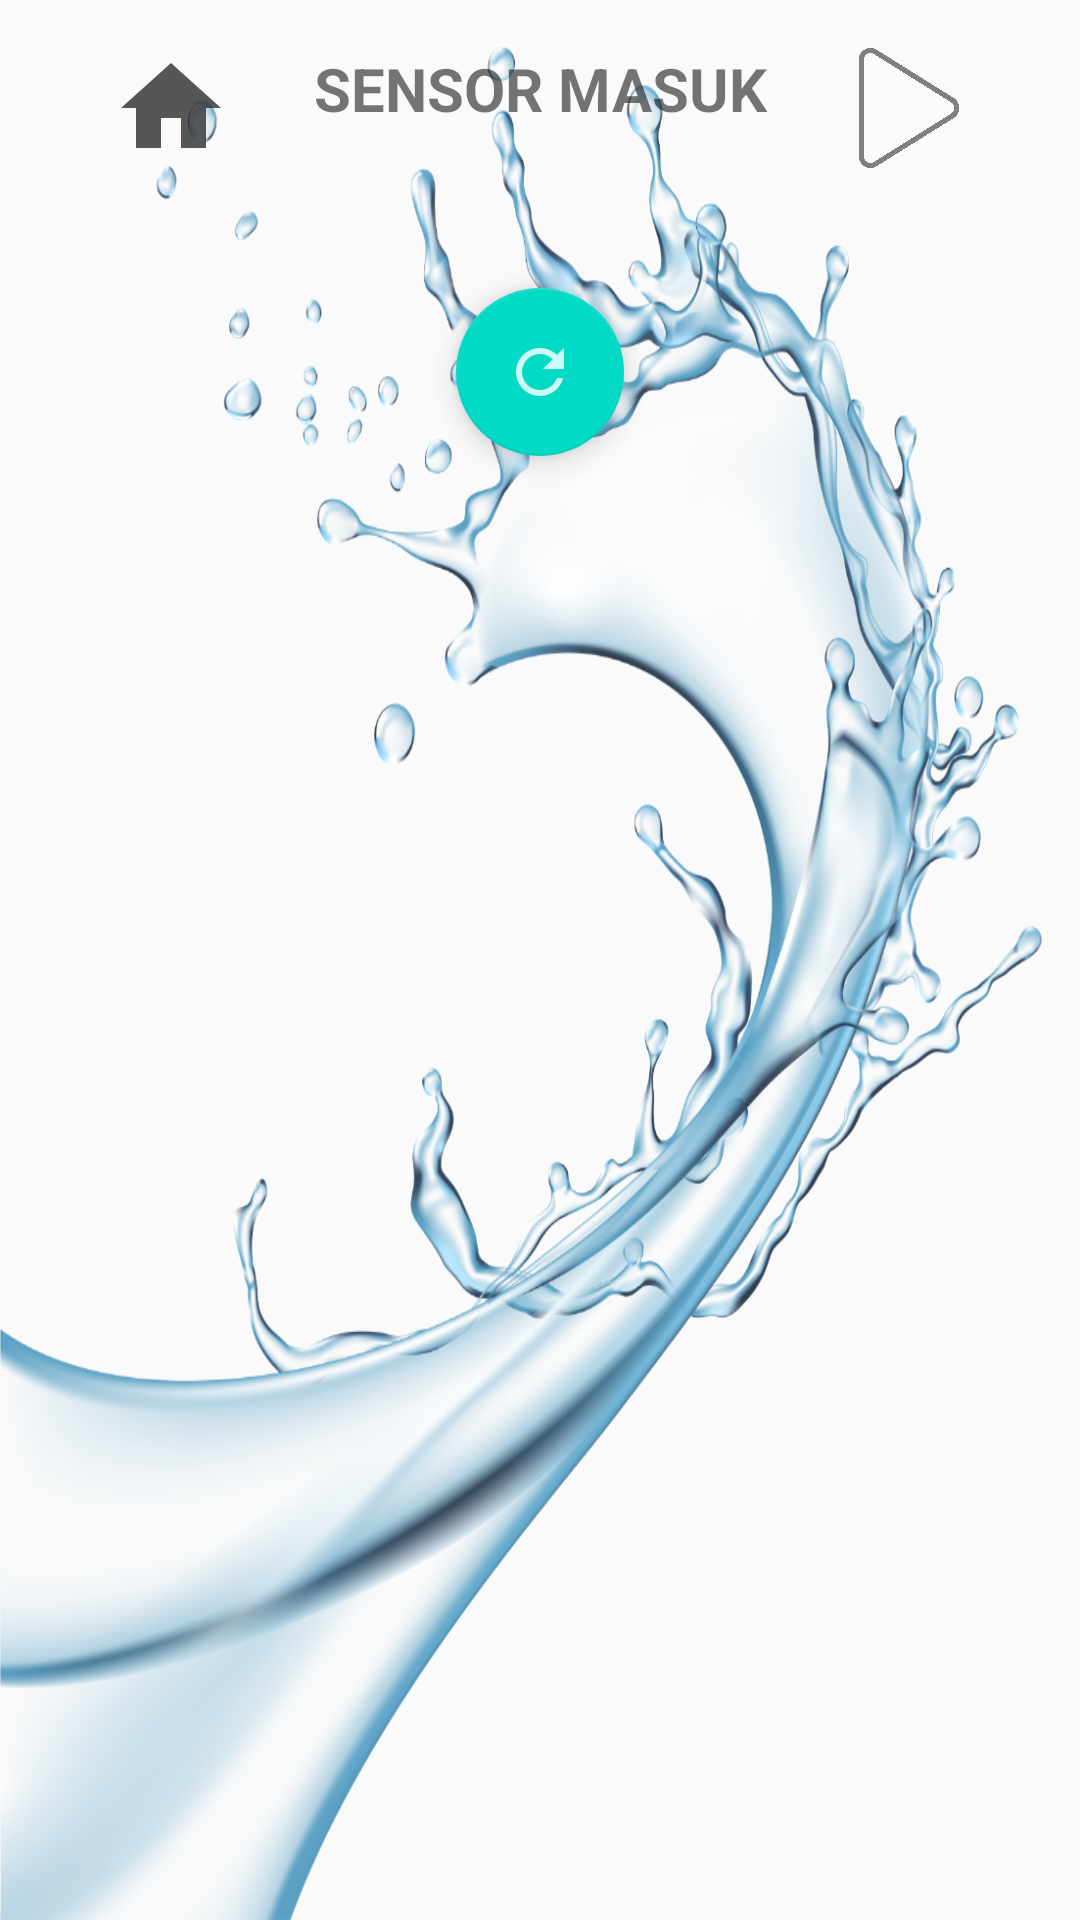

Icon click points for this 1080x1920 phone screenshot, format (x,y):
home: (171,105)
refresh: (540,372)
